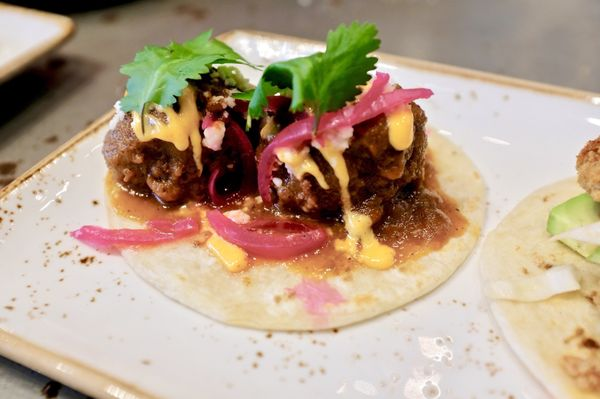curry: (0, 1, 579, 399)
sandwich: (66, 19, 486, 333)
